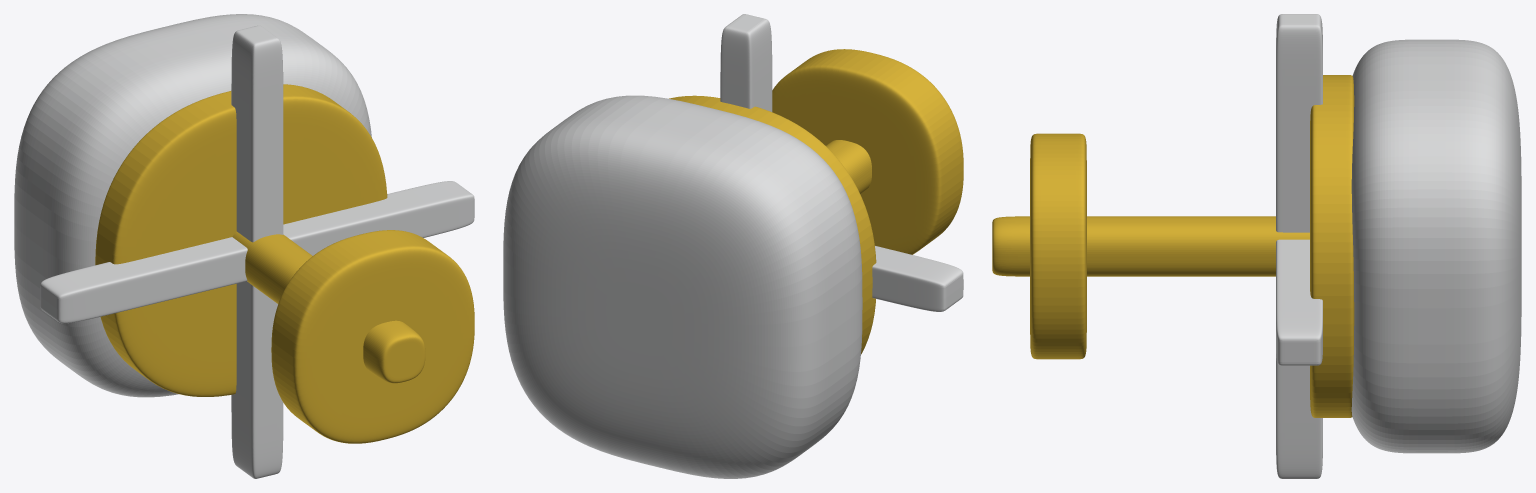
The model's file is crystal_chandelier_sq.glb.
3 renders of one model, left to right at view 1: azimuth 30°, elevation 25°; view 2: azimuth 150°, elevation 25°; view 3: azimuth 270°, elevation 25°, orthographic. The views are drawn at different scales.
Visible parts, largest first — view 1: superquadric_3, superquadric_2, superquadric_0, superquadric_5, superquadric_4, superquadric_1; view 2: superquadric_3, superquadric_0, superquadric_5, superquadric_4, superquadric_2, superquadric_1; view 3: superquadric_3, superquadric_1, superquadric_2, superquadric_5, superquadric_0, superquadric_4.
Boxes of the visible parts, x1,y1,x2,y2 form: superquadric_3: (14,14,371,397); superquadric_2: (95,84,387,396); superquadric_0: (271,230,474,443); superquadric_5: (231,25,283,478); superquadric_4: (40,181,474,323); superquadric_1: (232,231,425,383); superquadric_3: (503,95,862,478); superquadric_0: (772,49,963,254); superquadric_5: (720,14,772,111); superquadric_4: (872,246,963,311); superquadric_2: (669,95,876,354); superquadric_1: (826,140,871,193); superquadric_3: (1351,39,1521,453); superquadric_1: (992,216,1309,276); superquadric_2: (1310,75,1354,417); superquadric_5: (1276,14,1322,478); superquadric_0: (1030,133,1086,359); superquadric_4: (1276,239,1322,365).
Size of the model in its own units: 0.9464 by 0.9464 by 1.
